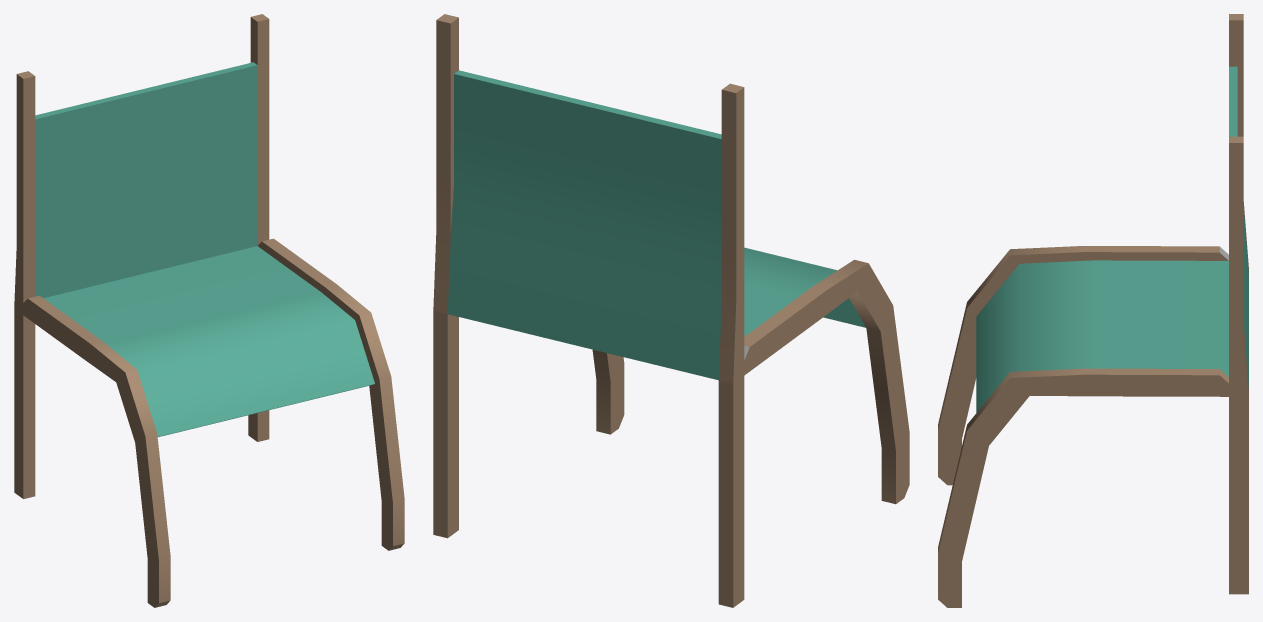
The model's file is chair.fbx.
3 views of the same model, side by side, from view 1: azimuth 30°, elevation 25°; view 2: azimuth 150°, elevation 25°; view 3: azimuth 270°, elevation 25° (orthographic). The views are drawn at different scales.
Visible parts, largest first — view 1: pCube4; view 2: pCube4; view 3: pCube4.
Part boxes in pixels (<box>): pCube4: <box>14,14,404,607</box>; pCube4: <box>433,14,909,607</box>; pCube4: <box>938,14,1248,607</box>.
Size of the model in its own units: 20.8 by 35 by 21.2.
